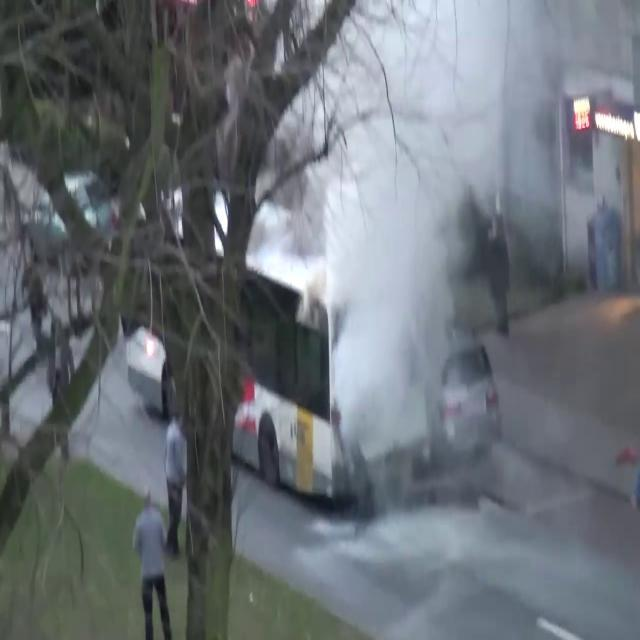Smoke: (302, 1, 614, 482)
